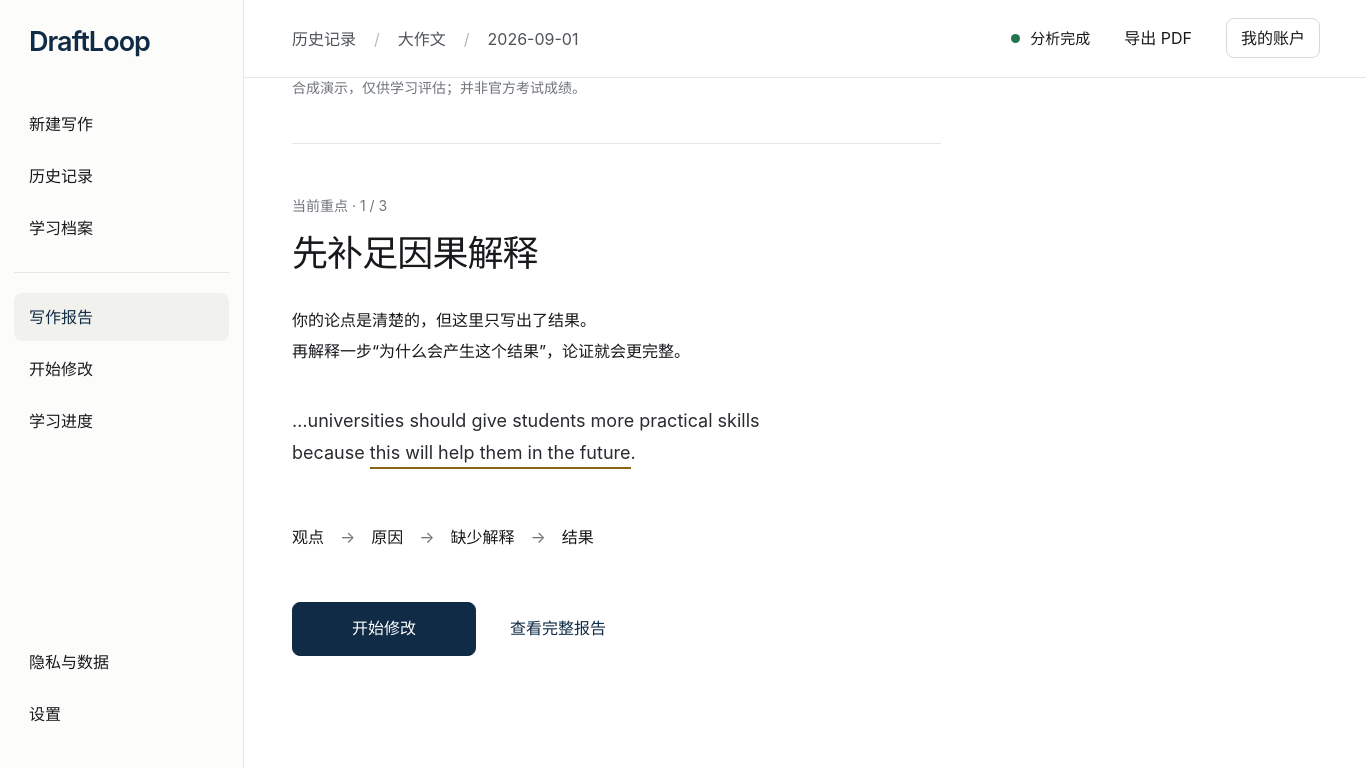
Test: DraftLoop composition › moves from the report into a learner-owned revision flow
(page scrolled)
Click the button with aria-label "开始修改当前重点".
click(384, 629)  # box [292, 602, 476, 656]
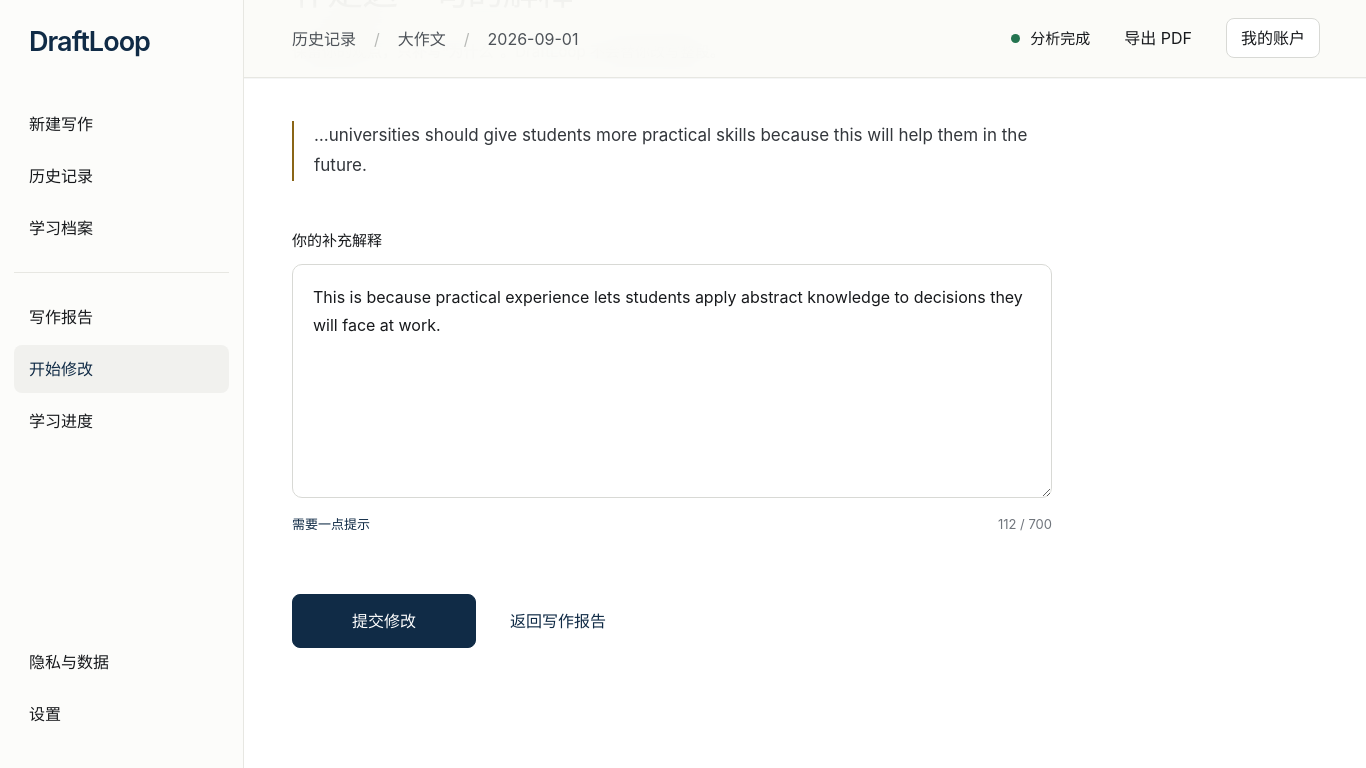
expect the text "保留你的观点，只补写“为什么”。DraftLoop 不会替你改写整段。" is shown: met, box [292, 42, 725, 61]
expect the text box labelled "你的补充解释" is shown: met, box [292, 264, 1052, 498]
